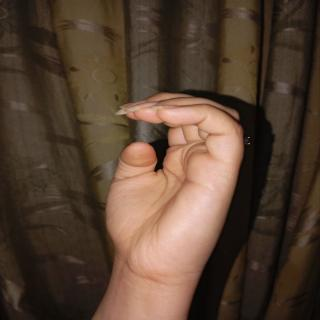JEEM: (96, 85, 259, 287)
